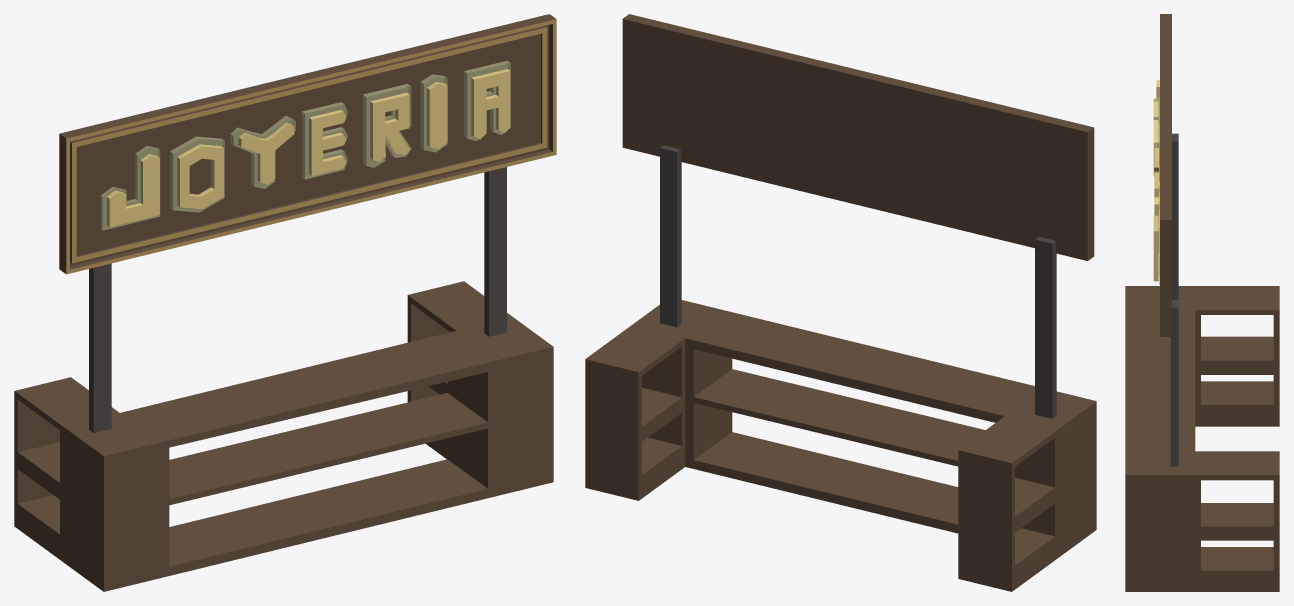
Rendered from Mesa Joyeria Mediana.fbx.
3 renders of one model, left to right at view 1: azimuth 30°, elevation 25°; view 2: azimuth 150°, elevation 25°; view 3: azimuth 270°, elevation 25°, orthographic. The views are drawn at different scales.
Parts seen in each view (by area): view 1: Estante_M, Letrero_Base_Joy_7, Palo_2, Palo_1, pasted__A_front, pasted__R_Front, pasted__J_Front, pasted__O_Front, pasted__E_Front, pasted__Y_Front, pasted__RR, pasted__I_Front (+6 smaller); view 2: Estante_M, Letrero_Base_Joy_7, Palo_2, Palo_1; view 3: Estante_M, Letrero_Base_Joy_7, Palo_2, Palo_1, pasted__A_front, pasted__Y_Front.
Boxes of the visible parts, x1=… form: Estante_M: x1=14, y1=281, x2=553, y2=591; Letrero_Base_Joy_7: x1=59, y1=14, x2=556, y2=274; Palo_2: x1=484, y1=167, x2=506, y2=336; Palo_1: x1=89, y1=263, x2=111, y2=433; pasted__A_front: x1=471, y1=69, x2=510, y2=139; pasted__R_Front: x1=370, y1=92, x2=410, y2=161; pasted__J_Front: x1=107, y1=154, x2=159, y2=227; pasted__O_Front: x1=177, y1=144, x2=223, y2=208; pasted__E_Front: x1=309, y1=110, x2=346, y2=175; pasted__Y_Front: x1=238, y1=122, x2=294, y2=184; pasted__RR: x1=362, y1=83, x2=411, y2=167; pasted__I_Front: x1=427, y1=82, x2=447, y2=149; Estante_M: x1=585, y1=300, x2=1096, y2=591; Letrero_Base_Joy_7: x1=622, y1=14, x2=1094, y2=260; Palo_2: x1=660, y1=145, x2=681, y2=327; Palo_1: x1=1035, y1=237, x2=1056, y2=418; Estante_M: x1=1125, y1=286, x2=1279, y2=591; Letrero_Base_Joy_7: x1=1160, y1=14, x2=1171, y2=336; Palo_2: x1=1170, y1=300, x2=1178, y2=466; Palo_1: x1=1172, y1=133, x2=1178, y2=299; pasted__A_front: x1=1153, y1=215, x2=1158, y2=281; pasted__Y_Front: x1=1153, y1=120, x2=1158, y2=175.
Size of the model in its own units: 5.53 by 4.78 by 1.75.
